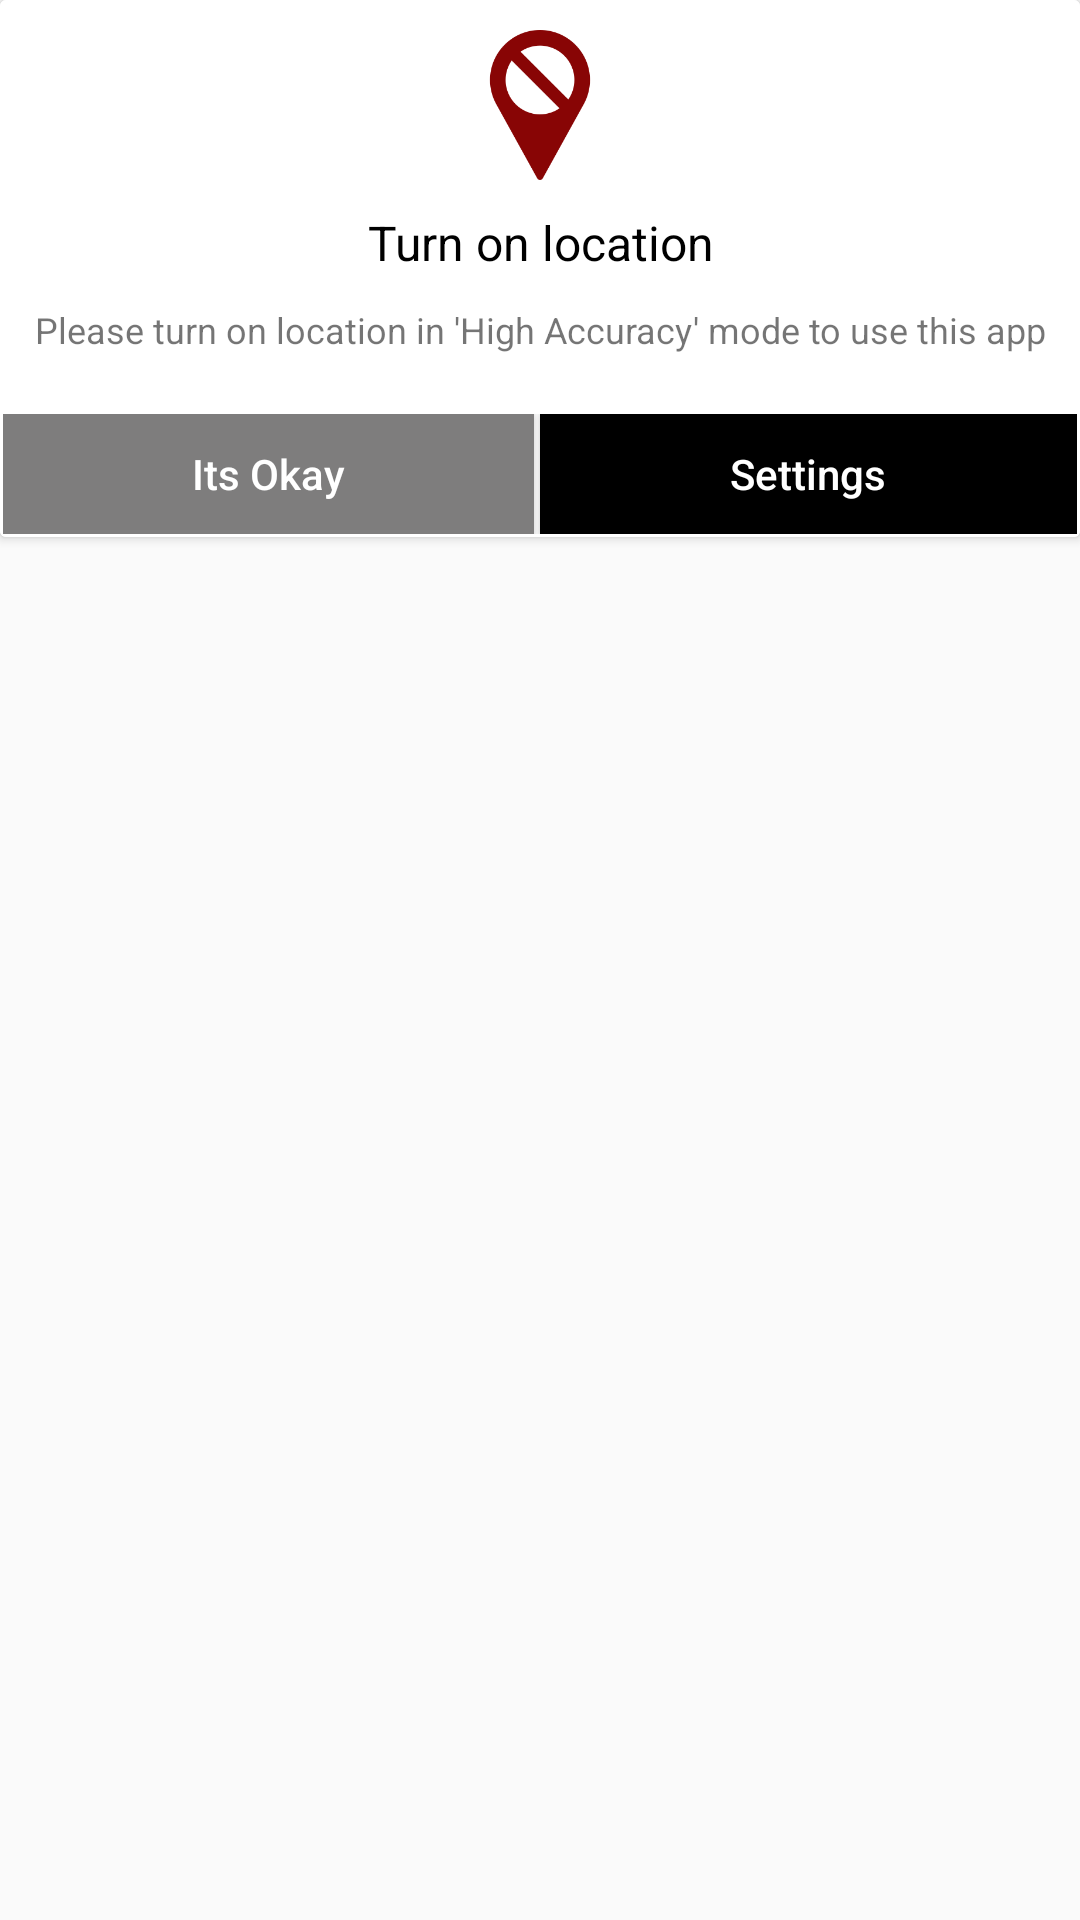

Named icons in this screenshot (1080px x 1920px) and their centers, (x=x, y=y):
location disable: (x=539, y=105)
